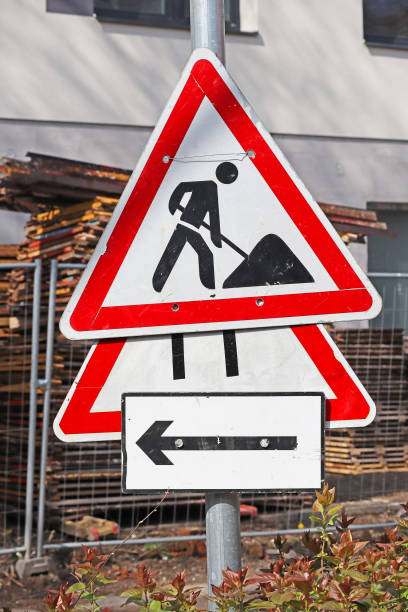yol_calismasi_levha: (57, 48, 389, 331)
